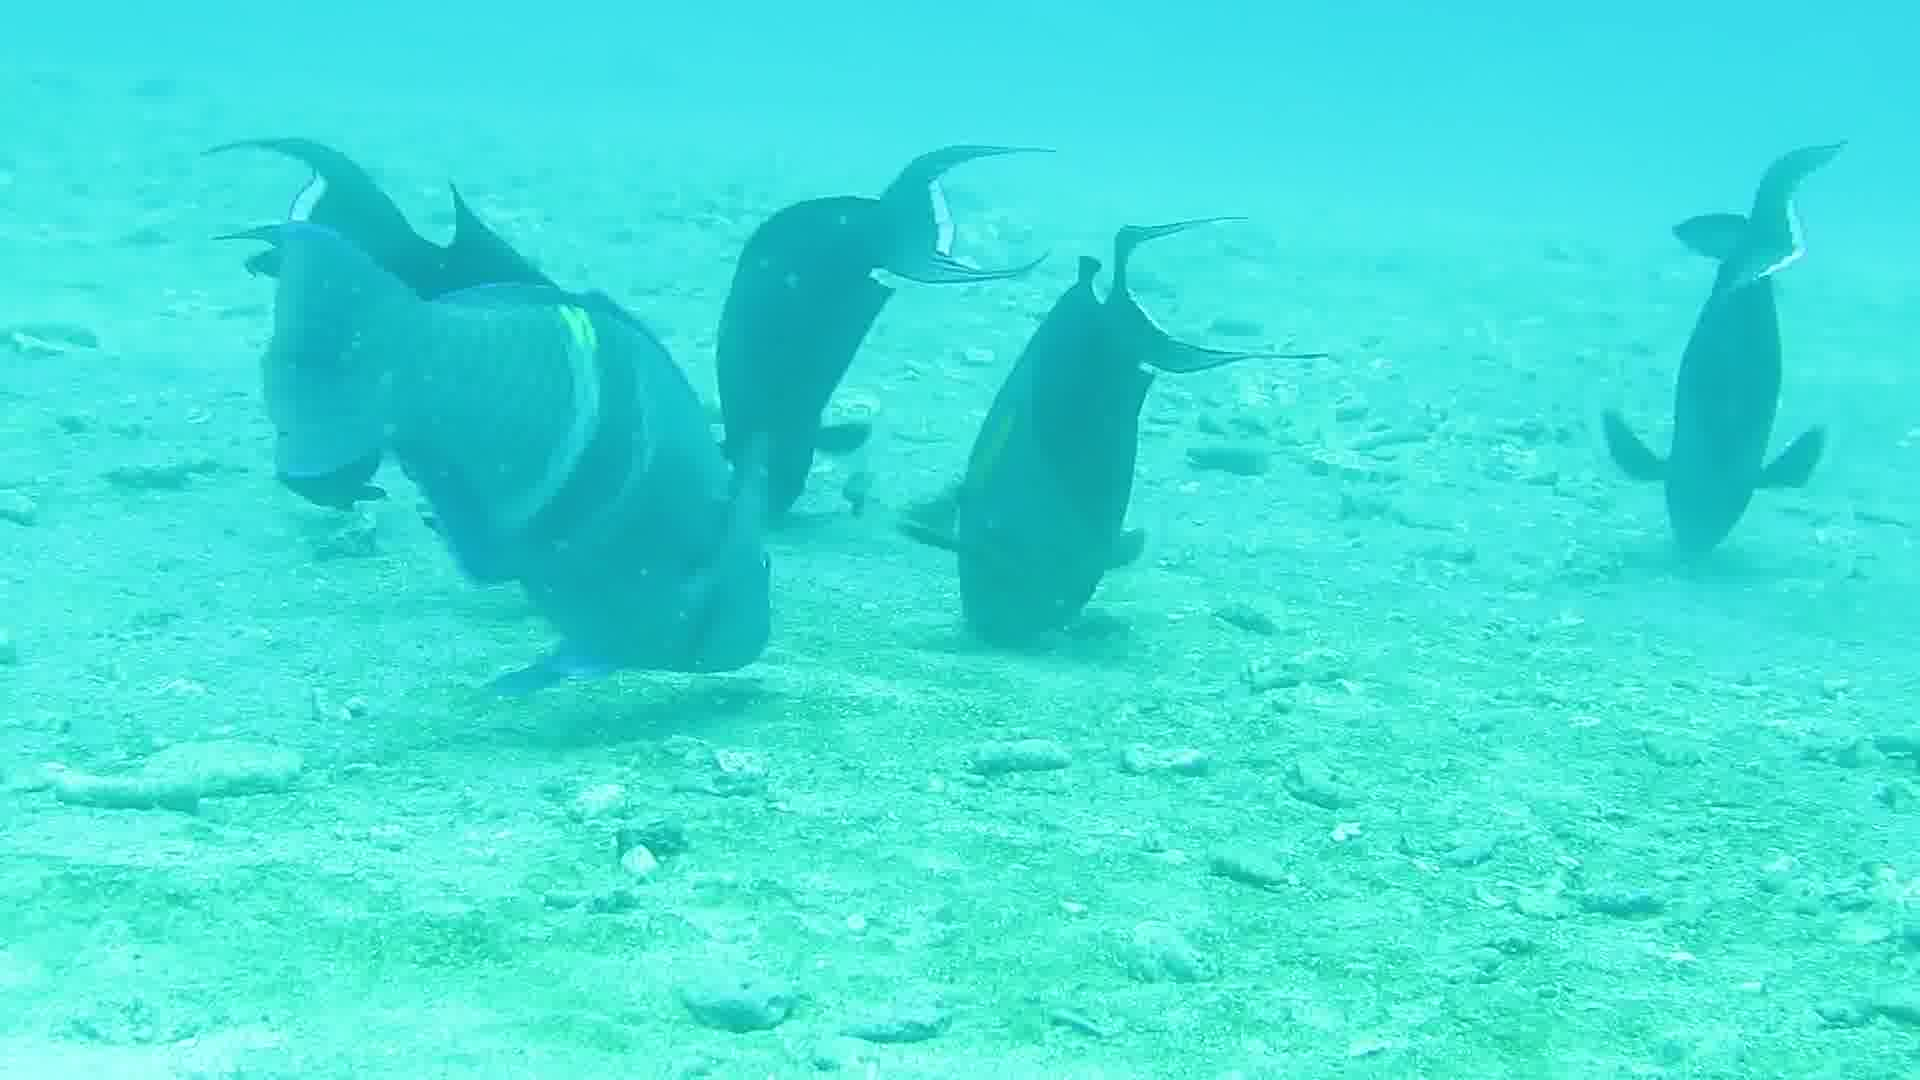Acanthurus olivaceus: (314, 235, 766, 723), (1600, 133, 1920, 559), (934, 235, 1254, 661), (691, 138, 1011, 564)
